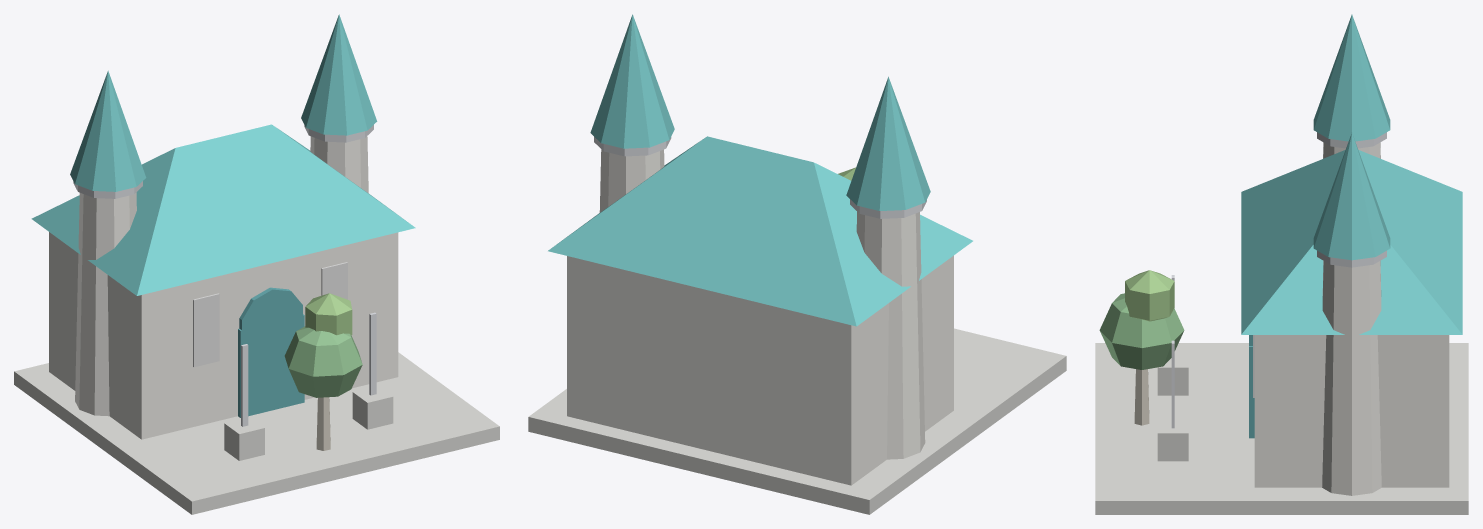
3 views of the same model, side by side, from view 1: azimuth 30°, elevation 25°; view 2: azimuth 150°, elevation 25°; view 3: azimuth 270°, elevation 25° (orthographic). The views are drawn at different scales.
Parts seen in each view (by area): view 1: body; view 2: body; view 3: body.
Part boxes in pixels (x1,y1,x2,y2): body: (14,14,499,514); body: (528,14,1066,514); body: (1095,14,1468,514).
Size of the model in its own units: 9.6 by 10.3 by 9.6.
